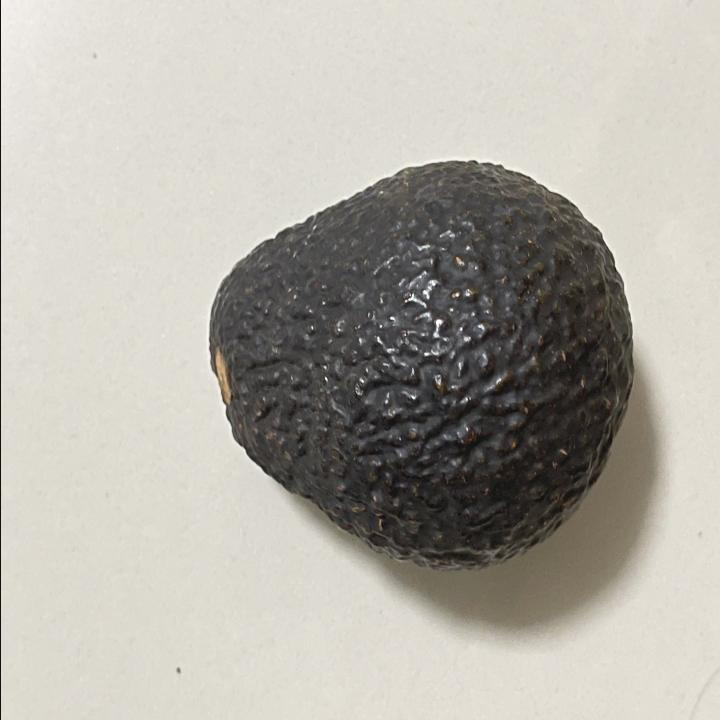Level1: (195, 144, 638, 580)
